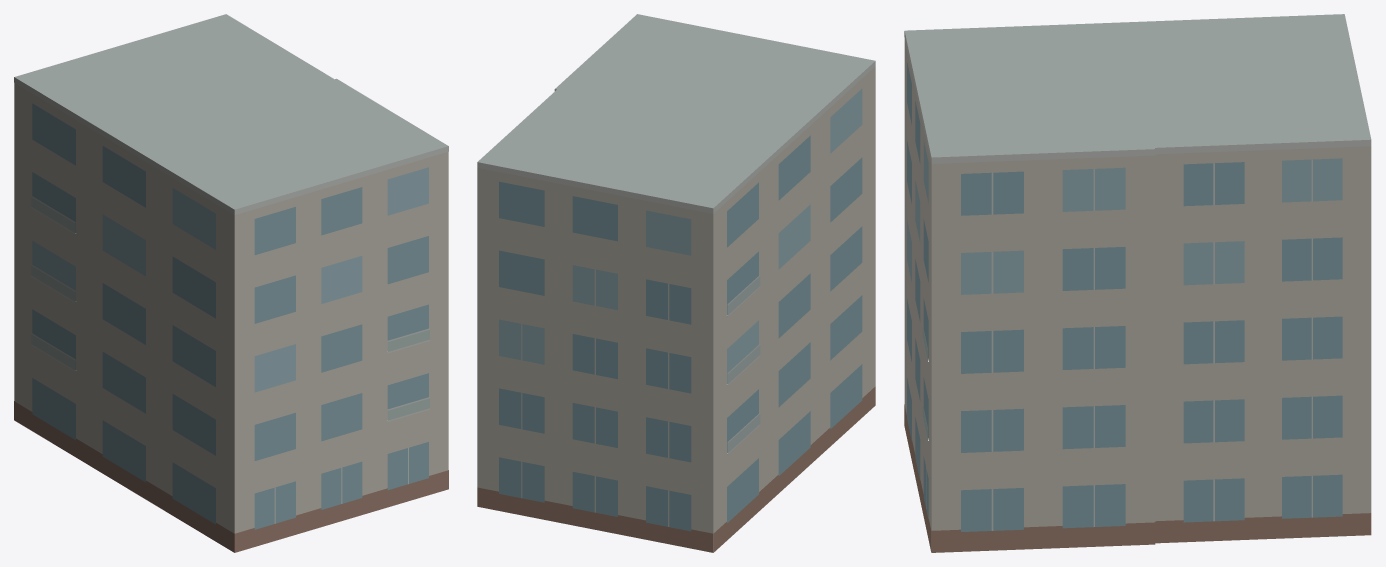
File: survey-upis-32926715.glb
3 views of the same model, side by side, from view 1: azimuth 30°, elevation 25°; view 2: azimuth 150°, elevation 25°; view 3: azimuth 270°, elevation 25° (orthographic). The views are drawn at different scales.
Parts seen in each view (by area): view 1: survey-upis-32926715.tmp; view 2: survey-upis-32926715.tmp; view 3: survey-upis-32926715.tmp.
Part boxes in pixels (x1=…): survey-upis-32926715.tmp: x1=14, y1=14, x2=448, y2=552; survey-upis-32926715.tmp: x1=477, y1=14, x2=875, y2=552; survey-upis-32926715.tmp: x1=904, y1=14, x2=1371, y2=552.
Bounding box in the file's own units: 11.76 × 15.1 × 16.17.
